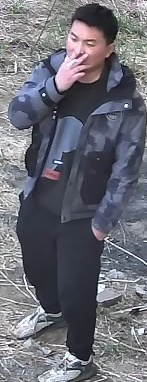smoking: (6, 38, 100, 132)
